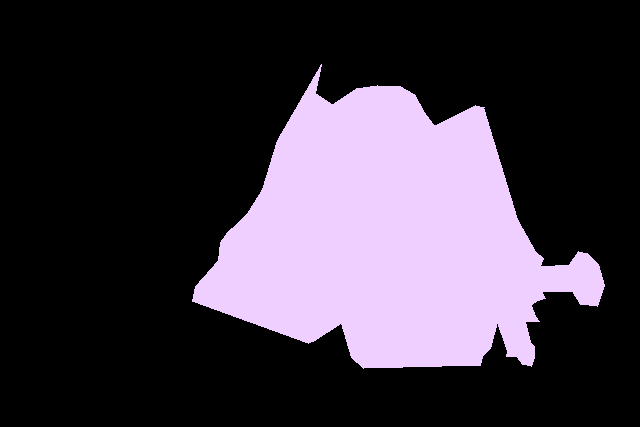Train: (192, 64, 605, 368)
